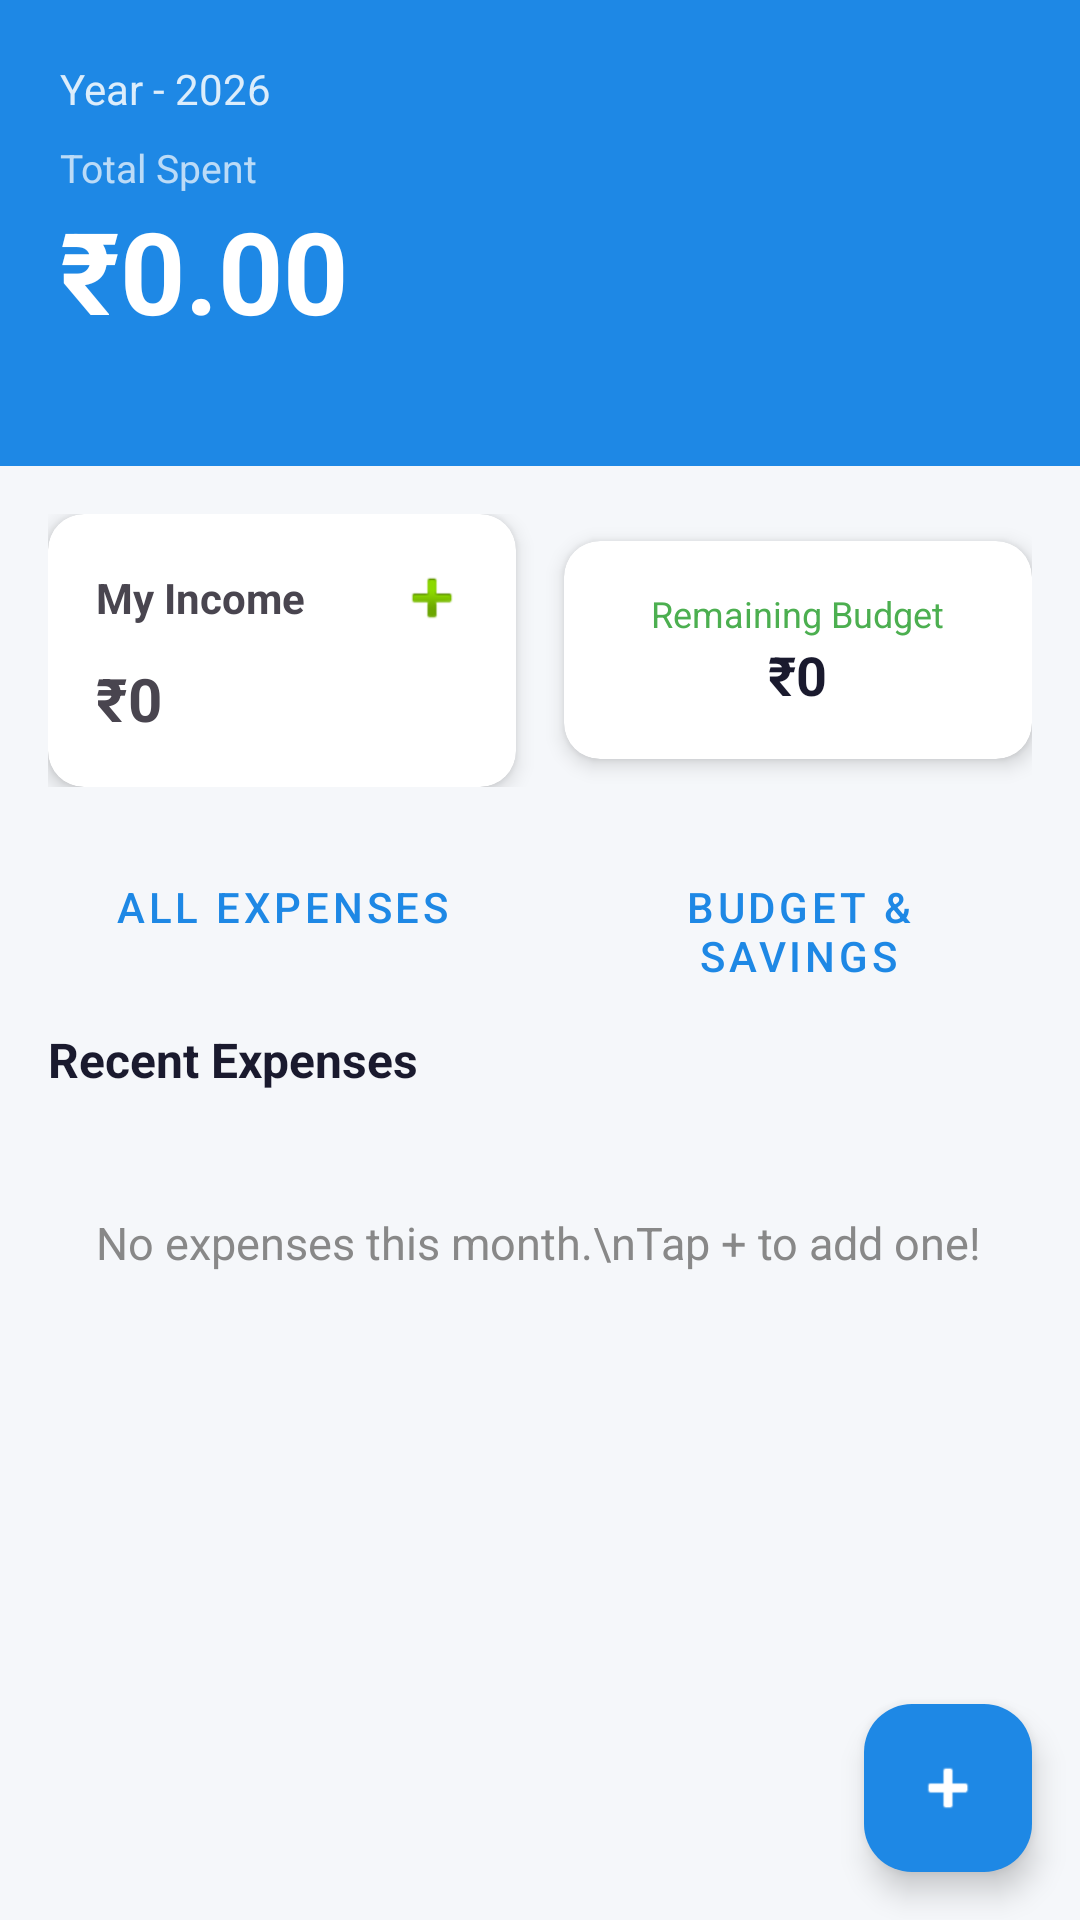

Named icons in this screenshot (1080 x 1920) and their centers, (x,y):
add: (432,598), (948,1788)
